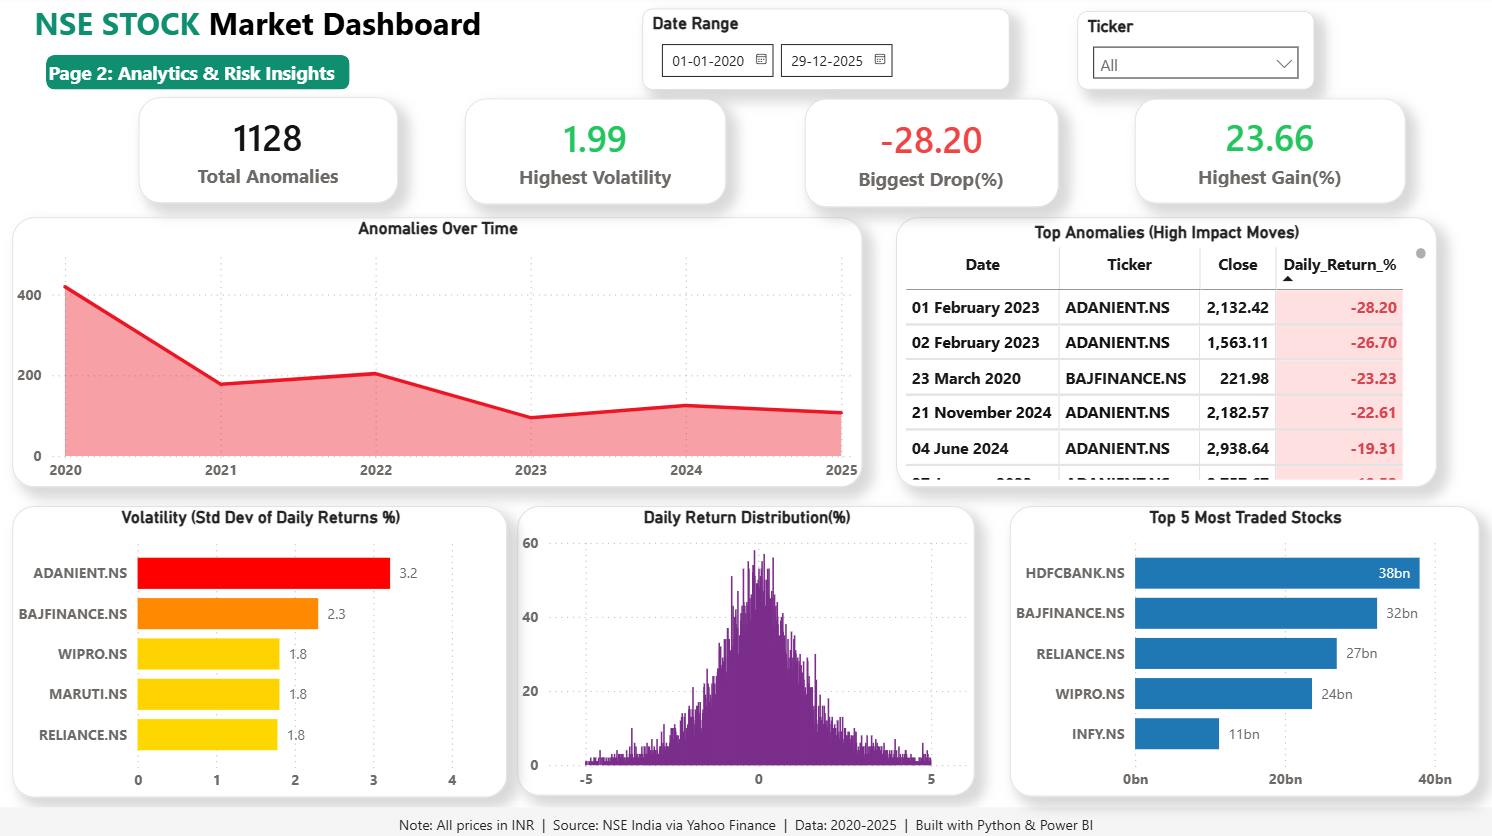

The page's visual inventory and layout, read from the dashboard file:
{"tool":"powerbi","page":{"name":"Page 2","canvas":[1280,720],"ordinal":1},"visuals":[{"type":"textbox","box":[27.7,0,511.1,48],"z":0},{"type":"shape","box":[42.7,50.1,259.3,29.9],"z":1000},{"type":"slicer","title":"Date Range","fields":{"Values":["cleaned_stock_data.Date"]},"box":[551.6,10.7,313.7,69.4],"z":2000},{"type":"slicer","title":"Ticker","fields":{"Values":["cleaned_stock_data.Ticker"]},"box":[922.9,12.8,202.7,67.2],"z":3000},{"type":"cardVisual","fields":{"Data":["anomalies.Total_Anomalies"]},"box":[121.6,86.4,221.9,90.7],"z":4000},{"type":"stackedAreaChart","title":"Anomalies Over Time","fields":{"Category":["anomalies.Date.Variation.Date Hierarchy.Year","anomalies.Date.Variation.Date Hierarchy.Quarter","anomalies.Date.Variation.Date Hierarchy.Month","anomalies.Date.Variation.Date Hierarchy.Day"],"Y":["CountNonNull(anomalies.Is_Anomaly)"]},"box":[14,188.4,725.6,230.2],"z":5000},{"type":"tableEx","title":"Top Anomalies (High Impact Moves)","fields":{"Values":["anomalies.Date","anomalies.Ticker","anomalies.Close","anomalies.Daily_Return_%"]},"box":[768.6,188.4,461.6,230.2],"z":6000},{"type":"cardVisual","fields":{"Data":["Max(anomalies.Daily_Return_%)"]},"box":[972,87.5,231.5,89.6],"z":7000},{"type":"cardVisual","fields":{"Data":["Min(anomalies.Daily_Return_%)"]},"box":[690.3,87.5,216.6,92.8],"z":8000},{"type":"clusteredColumnChart","title":"Daily Return Distribution(%)","fields":{"Y":["CountNonNull(cleaned_stock_data.Daily_Return_%)"],"Category":["cleaned_stock_data.Daily_Return_%"]},"box":[444.9,435.3,390.5,247.5],"z":9000},{"type":"cardVisual","fields":{"Data":["Sum(cleaned_stock_data.Daily_Return_%)"]},"box":[400.1,87.5,223,90.7],"z":10000},{"type":"clusteredBarChart","title":"Volatility (Std Dev of Daily Returns %)","fields":{"Y":["Sum(cleaned_stock_data.Daily_Return_%)"],"Category":["cleaned_stock_data.Ticker"]},"box":[13.9,435.3,422.5,248.6],"z":11000},{"type":"textbox","box":[0,692.5,1280.4,27.7],"z":12000},{"type":"clusteredBarChart","title":"Top 5 Most Traded Stocks","fields":{"Category":["cleaned_stock_data.Ticker"],"Y":["Sum(cleaned_stock_data.Volume)"]},"box":[865.1,434.9,401.2,247.7],"z":13000}]}

Visuals, with their boxes in screenshot pixels (x1, y1, x2, y2), scaled from the page's 1280x720 canvas onto the 1492x836 screenshot:
textbox: {"x1": 32, "y1": 0, "x2": 628, "y2": 56}
shape: {"x1": 50, "y1": 58, "x2": 352, "y2": 93}
"Date Range" slicer: {"x1": 643, "y1": 12, "x2": 1009, "y2": 93}
"Ticker" slicer: {"x1": 1076, "y1": 15, "x2": 1312, "y2": 93}
cardVisual - anomalies.Total_Anomalies: {"x1": 142, "y1": 100, "x2": 400, "y2": 206}
"Anomalies Over Time" stackedAreaChart: {"x1": 16, "y1": 219, "x2": 862, "y2": 486}
"Top Anomalies (High Impact Moves)" tableEx: {"x1": 896, "y1": 219, "x2": 1434, "y2": 486}
cardVisual - Max(anomalies.Daily_Return_%): {"x1": 1133, "y1": 102, "x2": 1403, "y2": 206}
cardVisual - Min(anomalies.Daily_Return_%): {"x1": 805, "y1": 102, "x2": 1057, "y2": 209}
"Daily Return Distribution(%)" clusteredColumnChart: {"x1": 519, "y1": 505, "x2": 974, "y2": 793}
cardVisual - Sum(cleaned_stock_data.Daily_Return_%): {"x1": 466, "y1": 102, "x2": 726, "y2": 207}
"Volatility (Std Dev of Daily Returns %)" clusteredBarChart: {"x1": 16, "y1": 505, "x2": 509, "y2": 794}
textbox: {"x1": 0, "y1": 804, "x2": 1491, "y2": 835}
"Top 5 Most Traded Stocks" clusteredBarChart: {"x1": 1008, "y1": 505, "x2": 1476, "y2": 793}
